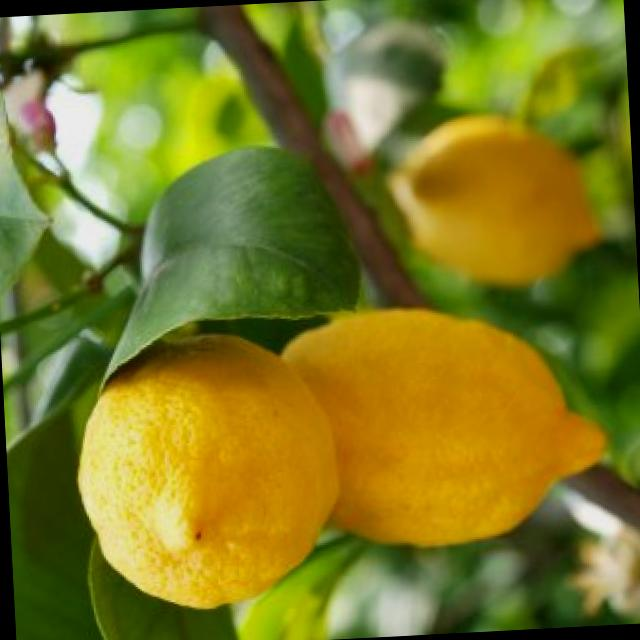lemon: (276, 283, 610, 563), (58, 319, 344, 613), (390, 103, 612, 294)
